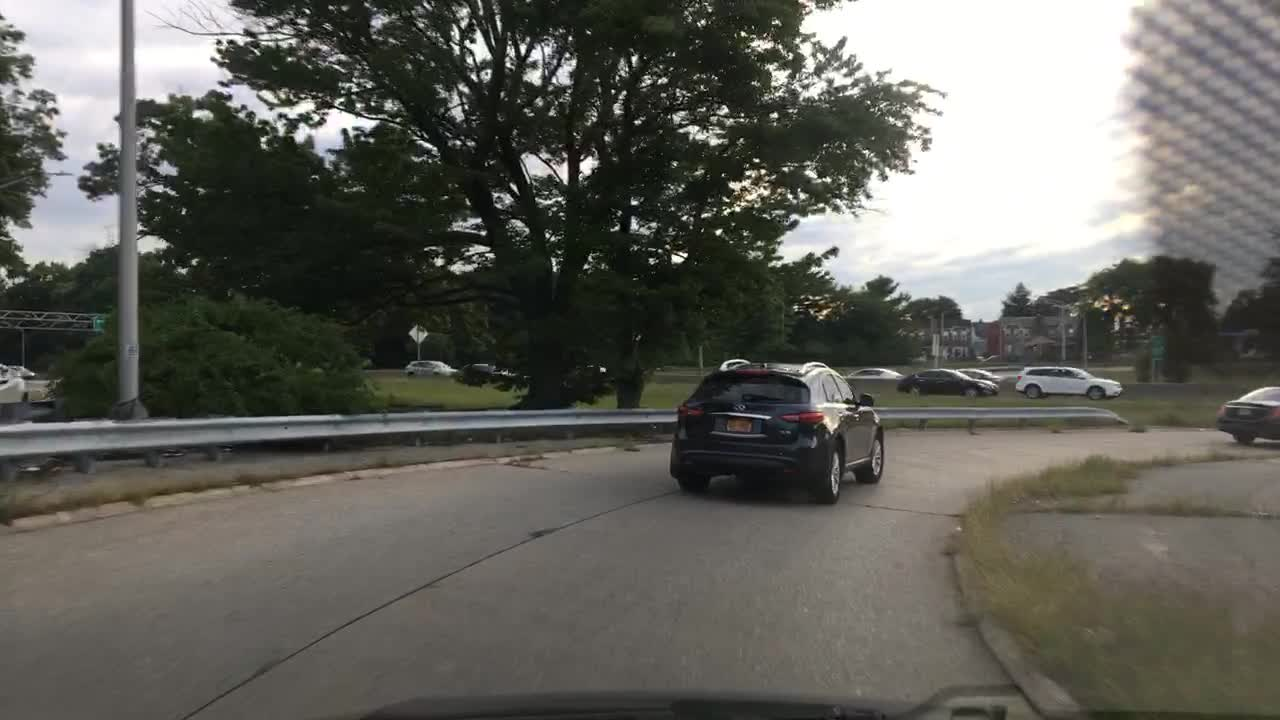car: (666, 358, 882, 503), (1211, 388, 1279, 449), (1012, 363, 1124, 400), (894, 368, 1000, 400), (450, 359, 530, 390), (0, 359, 33, 408), (850, 363, 901, 381), (403, 361, 460, 376), (955, 366, 1002, 381)
traffic sign: (1147, 332, 1164, 361), (406, 324, 428, 344), (91, 314, 108, 332)
